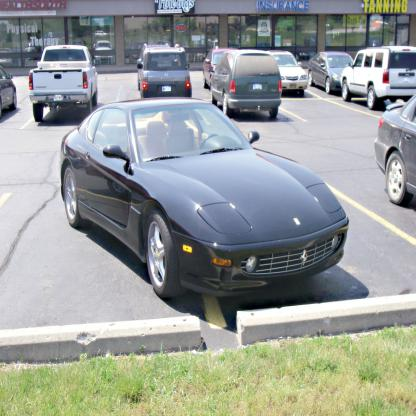Car: (60, 97, 350, 294), (211, 47, 282, 116), (341, 44, 415, 109), (374, 95, 415, 210), (138, 47, 191, 98), (265, 49, 309, 96), (309, 49, 353, 94), (204, 48, 232, 90), (0, 65, 17, 121)
Truck: (29, 45, 100, 122)
